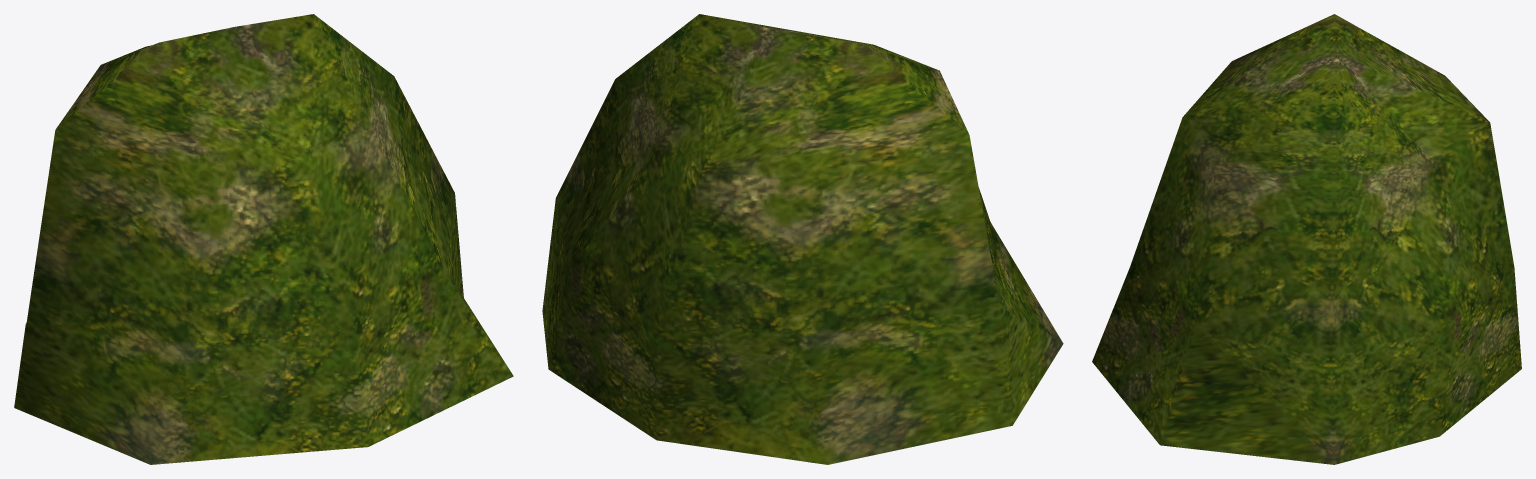
The model's file is INST_OH_ROCK_02.fbx.
3 renders of one model, left to right at view 1: azimuth 30°, elevation 25°; view 2: azimuth 150°, elevation 25°; view 3: azimuth 270°, elevation 25°, orthographic. The views are drawn at different scales.
Visible parts, largest first — view 1: INST_OH_ROCK_02; view 2: INST_OH_ROCK_02; view 3: INST_OH_ROCK_02.
Part boxes in pixels (box(x1,y1,x2,y2)): INST_OH_ROCK_02: box(14, 14, 513, 464); INST_OH_ROCK_02: box(542, 14, 1063, 464); INST_OH_ROCK_02: box(1092, 14, 1521, 464).
Size of the model in its own units: 7433 by 5210 by 6529.
1 material, 1 textured.
